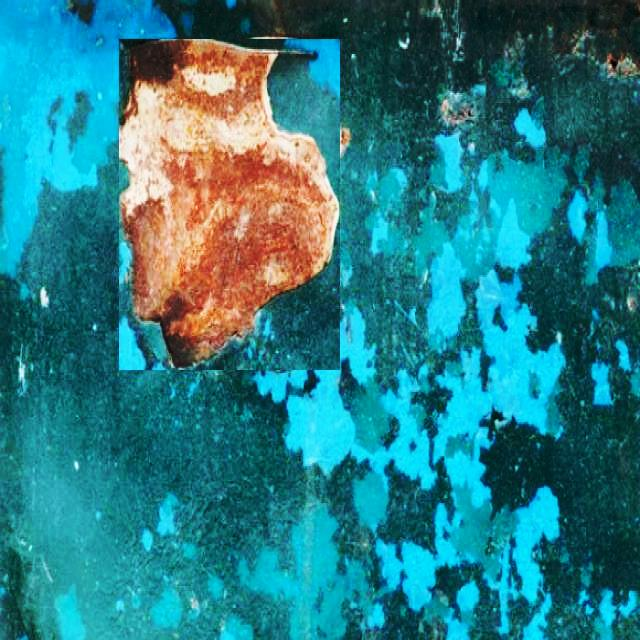Corrosion: (119, 38, 339, 368), (551, 0, 640, 76), (439, 89, 479, 127)
